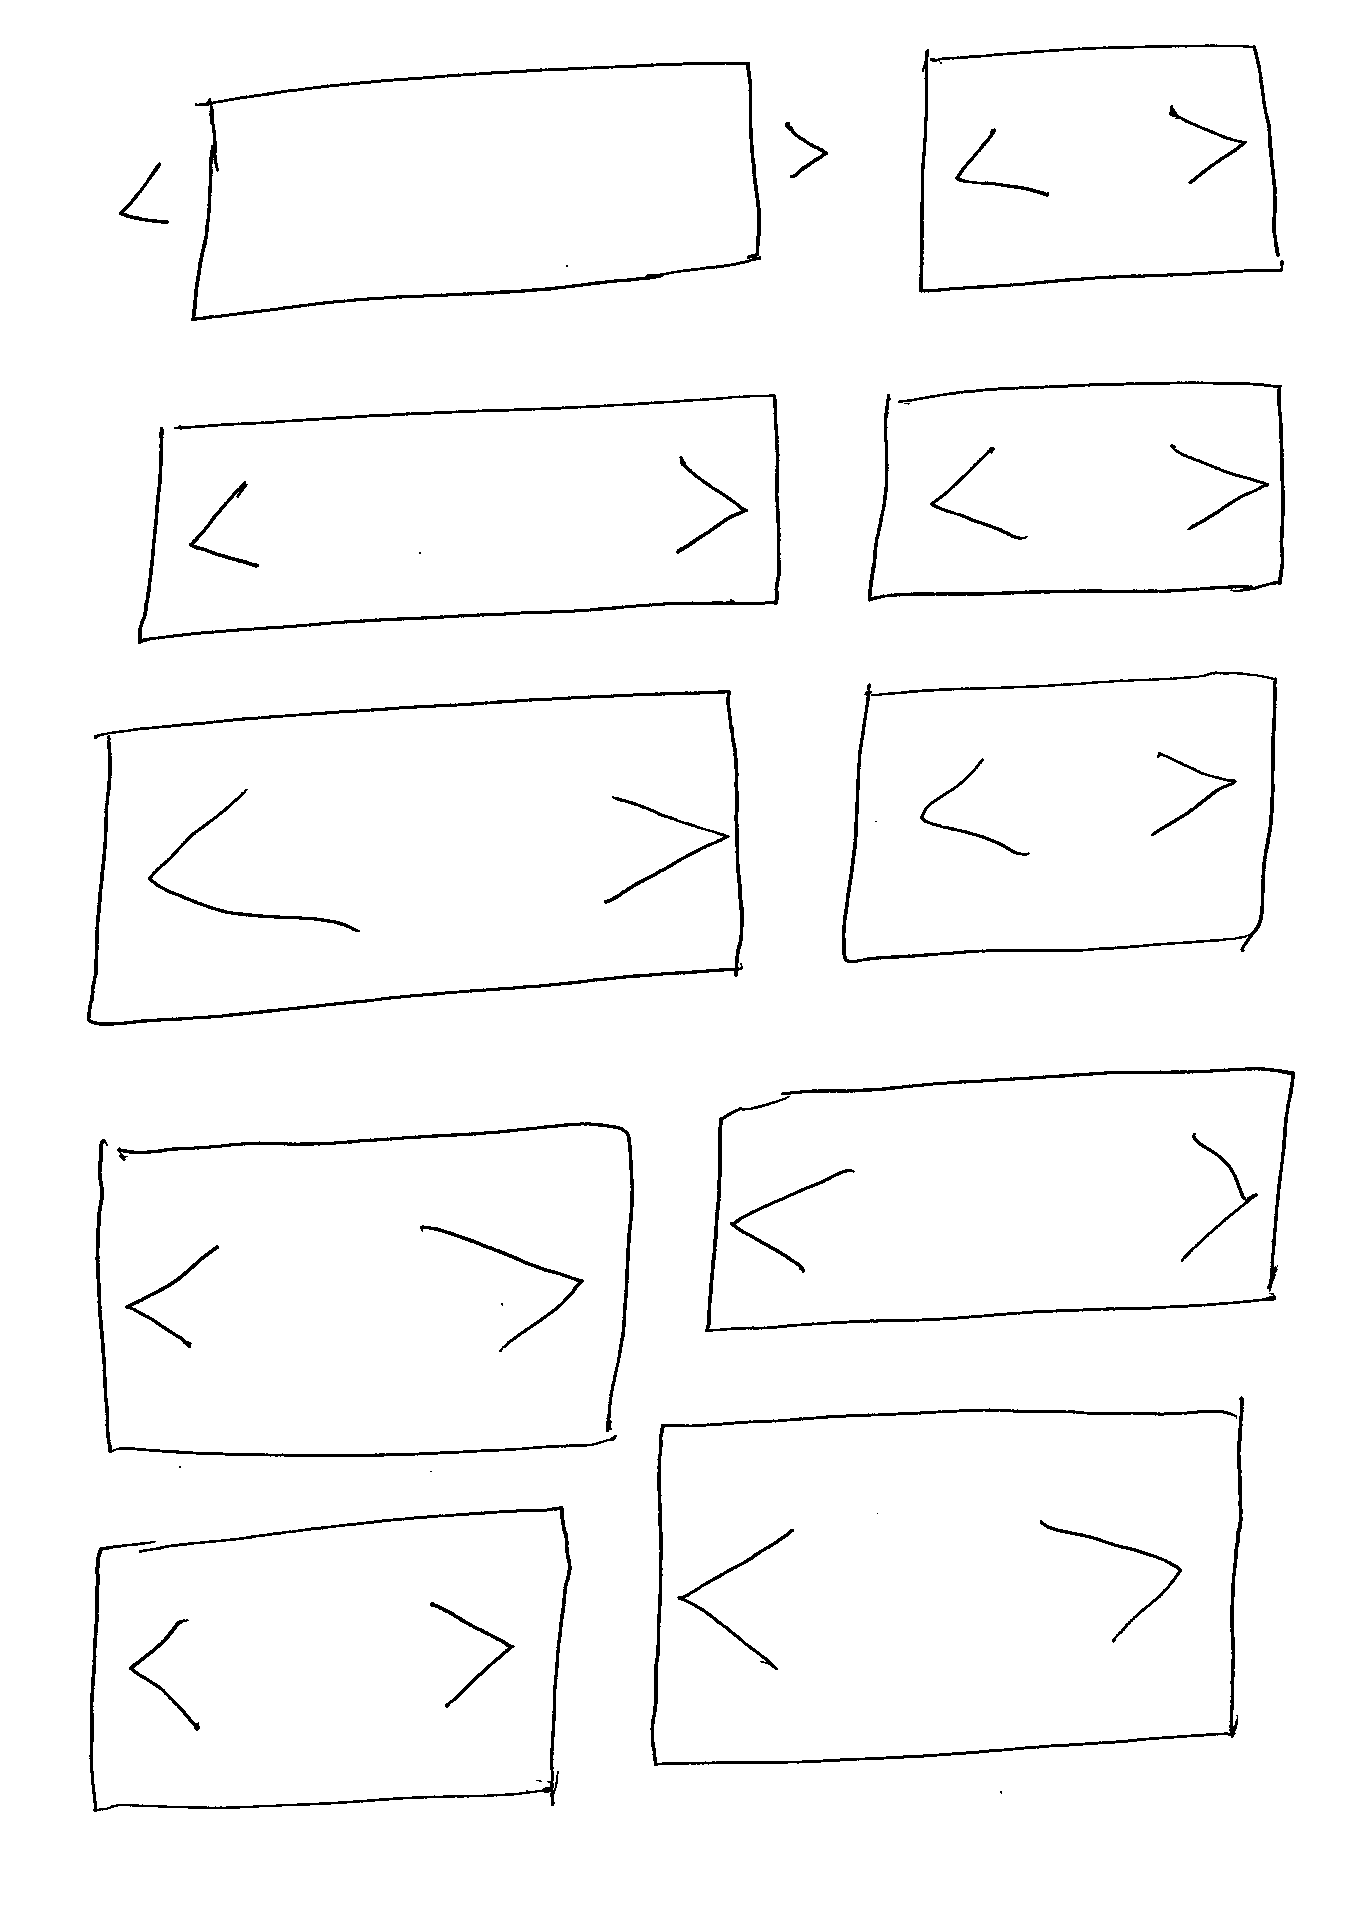Carousel: (81, 685, 748, 1029), (648, 1405, 1248, 1768), (114, 56, 826, 324), (89, 1119, 640, 1456), (132, 387, 786, 649), (701, 1062, 1297, 1334), (84, 1502, 575, 1817), (838, 668, 1282, 968), (862, 376, 1292, 603), (914, 38, 1285, 299)
